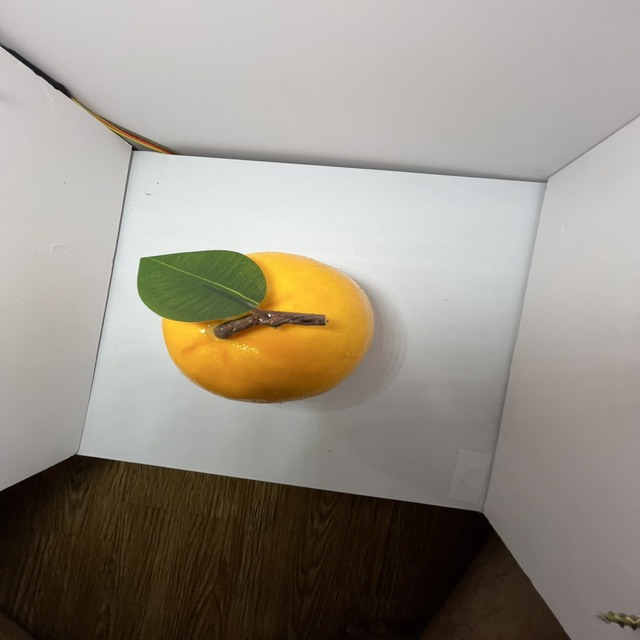Cam vang: (140, 252, 380, 408)
